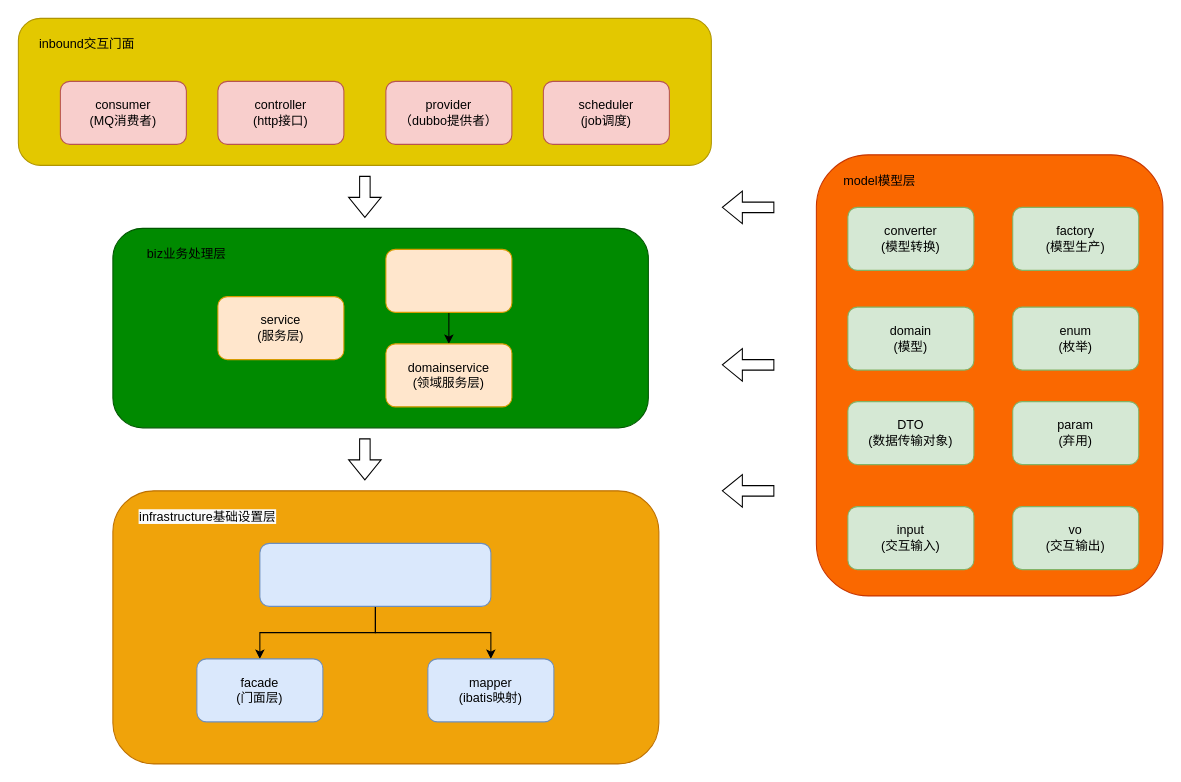
This 1181x782 diagram has some shape labels left out. The box of each missing label's shape, as (x1, y1, x2, y2) in pixels:
application (assembly组装层): (385, 248, 512, 312)
repository (资层/ReadRepository/WriteRepository): (259, 542, 491, 606)
